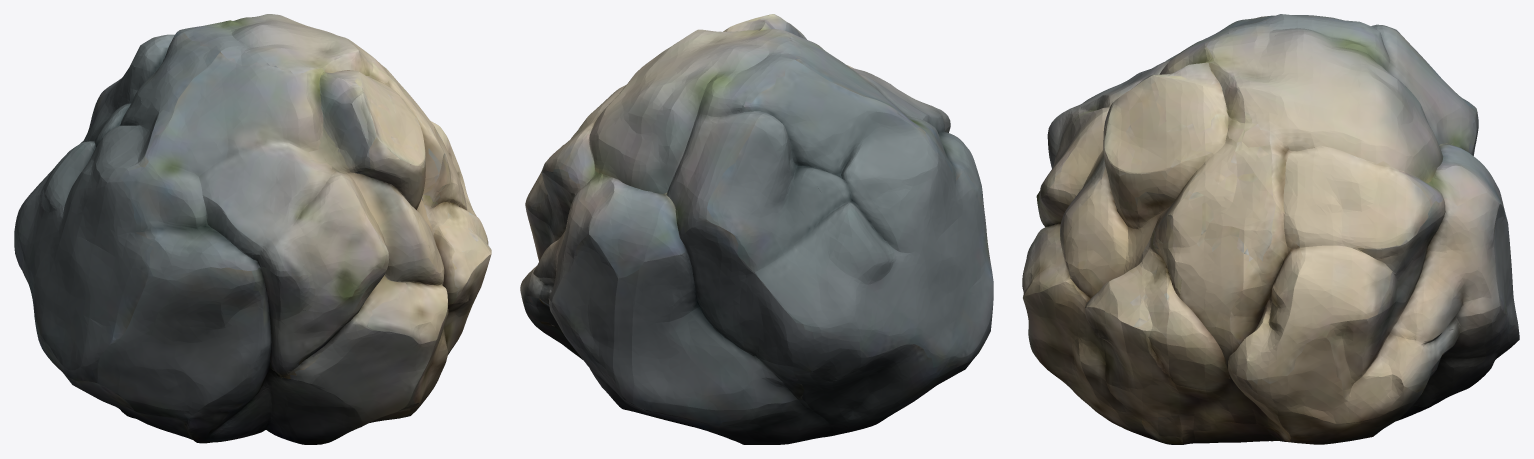
File: prop_boulder.glb
3 renders of one model, left to right at view 1: azimuth 30°, elevation 25°; view 2: azimuth 150°, elevation 25°; view 3: azimuth 270°, elevation 25°, orthographic. The views are drawn at different scales.
Parts seen in each view (by area): view 1: world; view 2: world; view 3: world.
Boxes of the visible parts, <box> form: world: <box>14,14,491,444</box>; world: <box>520,14,993,444</box>; world: <box>1022,14,1519,444</box>.
Bounding box in the file's own units: 0.9977 × 0.8155 × 0.9855.
1 material, 1 textured.
